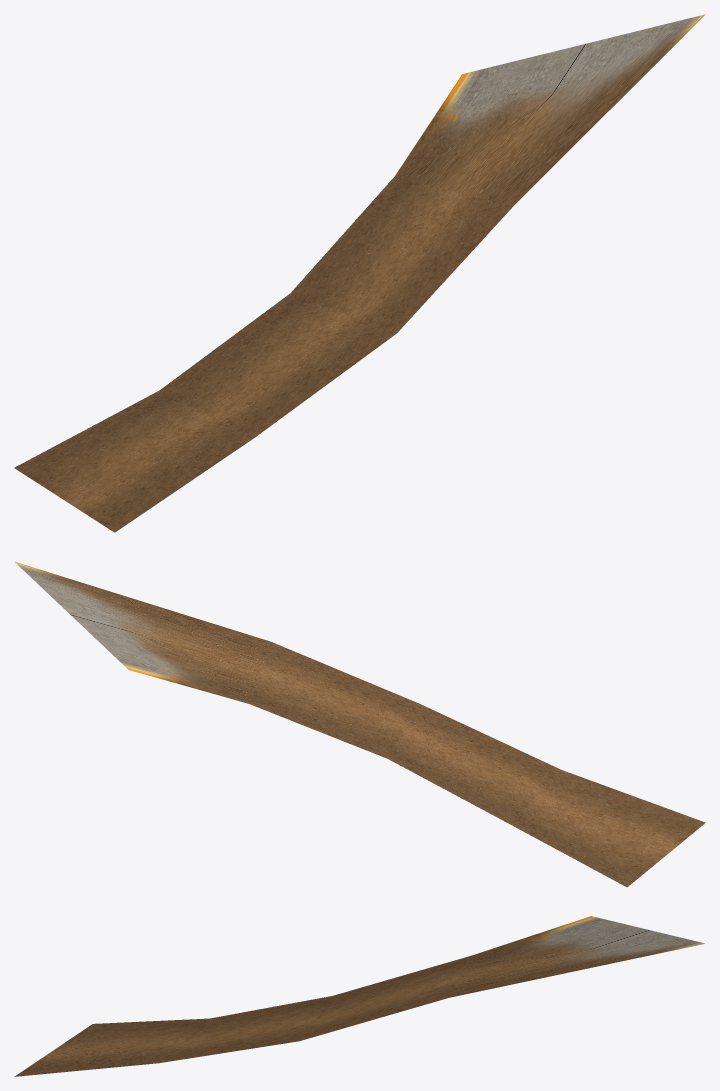
File: track_mushroom_road_air_01.fbx
3 renders of one model, top to bottom at view 1: azimuth 30°, elevation 25°; view 2: azimuth 150°, elevation 25°; view 3: azimuth 330°, elevation 25°, orthographic. The views are drawn at different scales.
Parts seen in each view (by area): view 1: track_mushroom_road_air_01; view 2: track_mushroom_road_air_01; view 3: track_mushroom_road_air_01.
Part boxes in pixels (bbox=[...]): track_mushroom_road_air_01: bbox=[14, 14, 705, 532]; track_mushroom_road_air_01: bbox=[14, 561, 705, 887]; track_mushroom_road_air_01: bbox=[14, 916, 704, 1076].
Size of the model in its own units: 76.76 by 25.44 by 33.69.
1 material, 1 textured.
